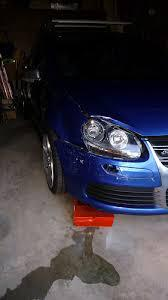Headlight-Damage: (77, 113, 150, 165)
front-bumper-dent: (101, 159, 167, 213)
